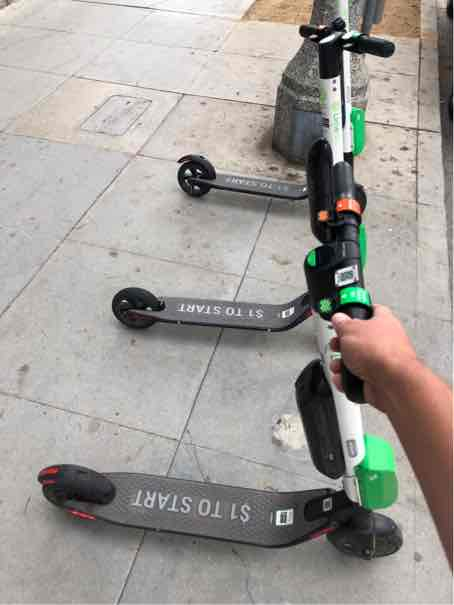scooter: (35, 145, 433, 568), (103, 14, 431, 374)
